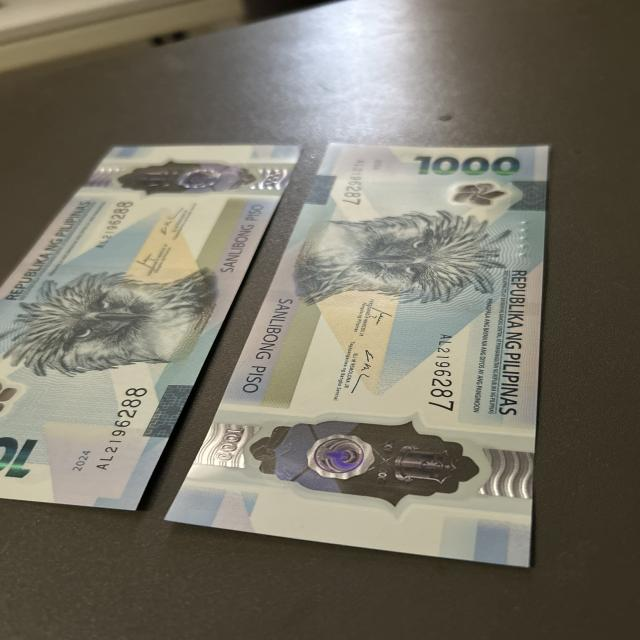clear_window: (242, 408, 479, 512), (116, 155, 256, 202)
eagle: (1, 272, 214, 375), (298, 210, 498, 308)
sampaguita: (456, 185, 517, 207), (0, 376, 20, 419)
serial_number: (96, 381, 145, 472), (426, 330, 465, 416)
